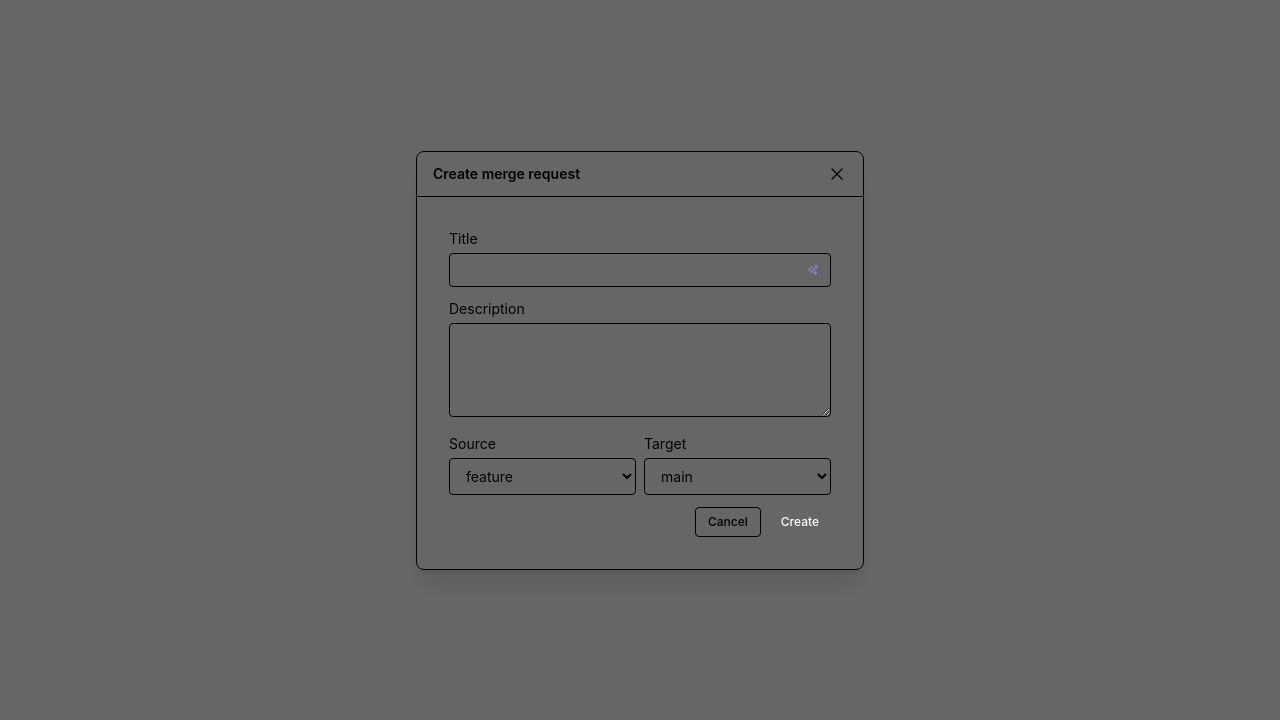
Test case: GitLab CreatePrModal › fills title and body from AI response
What coordinates should you click on to do the following:
click the button named "fill with ai"
I would click on:
 (813, 269)
Its box is [803,259,823,279].
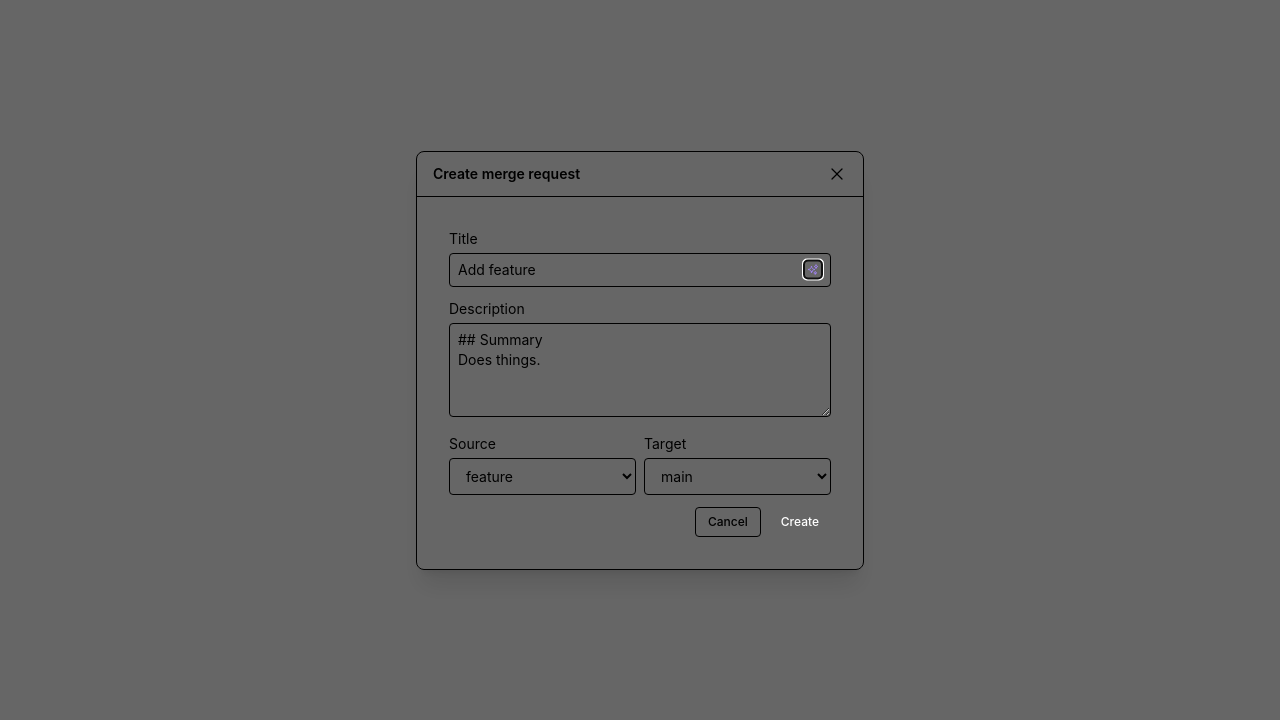
Now the field showing "Add feature" is shown, box [449,252,831,286]
Now the text box showing "## Summary" is shown, box [449,322,831,416]
